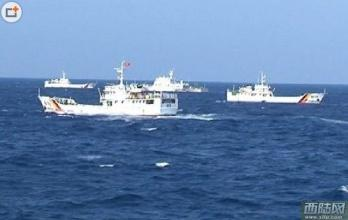warship: (37, 79, 183, 118), (223, 73, 326, 104), (142, 67, 205, 93), (45, 72, 94, 90)
